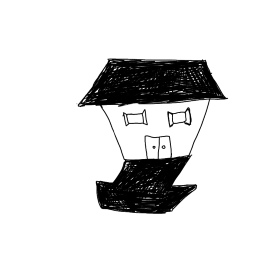door: (140, 132, 178, 159)
open_window: (119, 108, 155, 130), (160, 106, 194, 129)
shaded_roof: (75, 53, 231, 111)
shadow: (91, 155, 207, 217)
wall: (99, 99, 213, 163)
